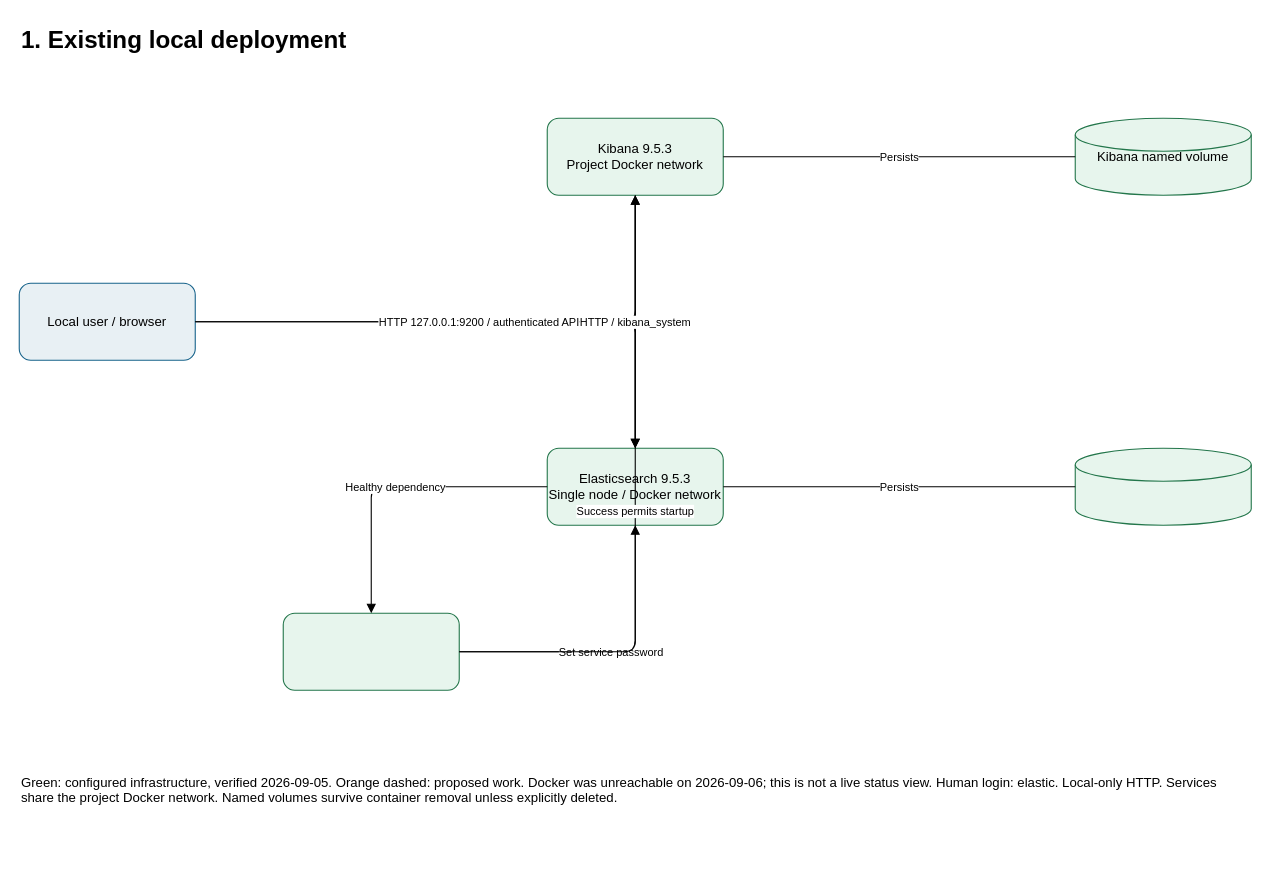
Some shapes in this 1271 by 895 pixel diagram are drawn without their labels. Here are the shapes that lost their labels. From the top down, the centre of each, then its label:
At point 1162,486: "Elasticsearch named volume".
At point 370,651: "One-shot setup Exits after success".
